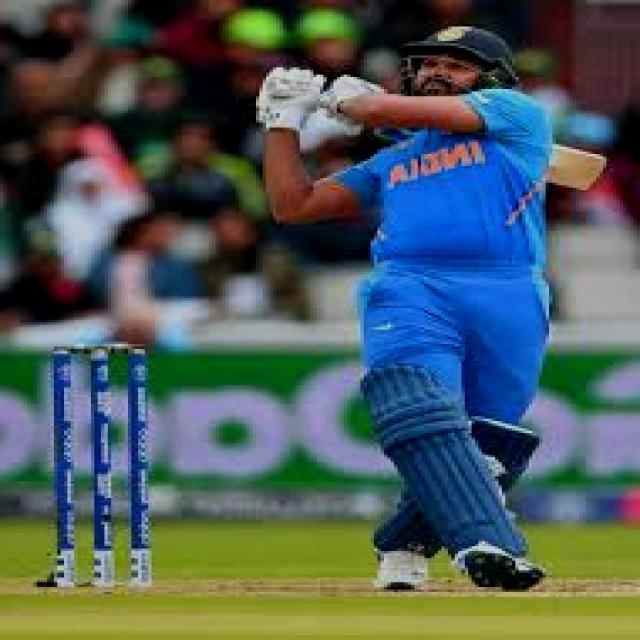toe: (573, 146, 611, 198)
